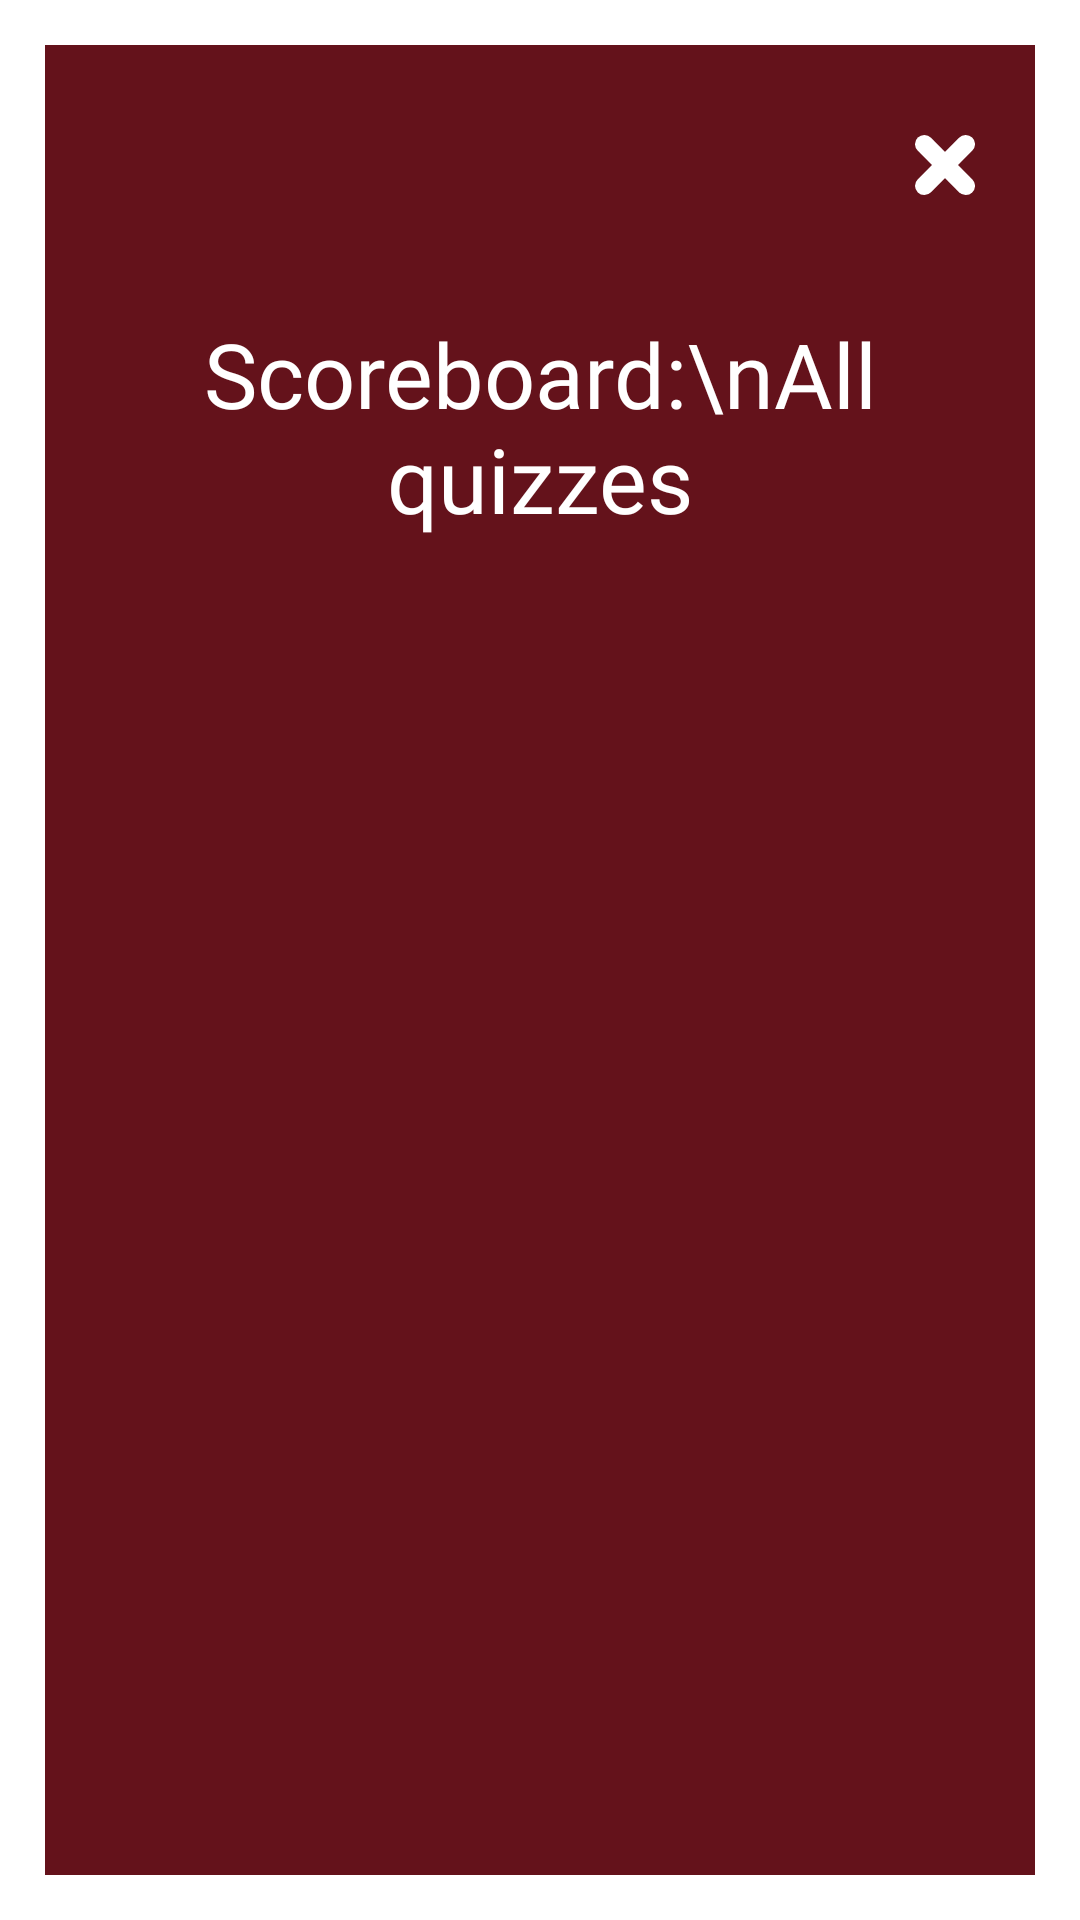

Named icons in this screenshot (1080 x 1920) and their centers, (x,y):
close: (945,165)
